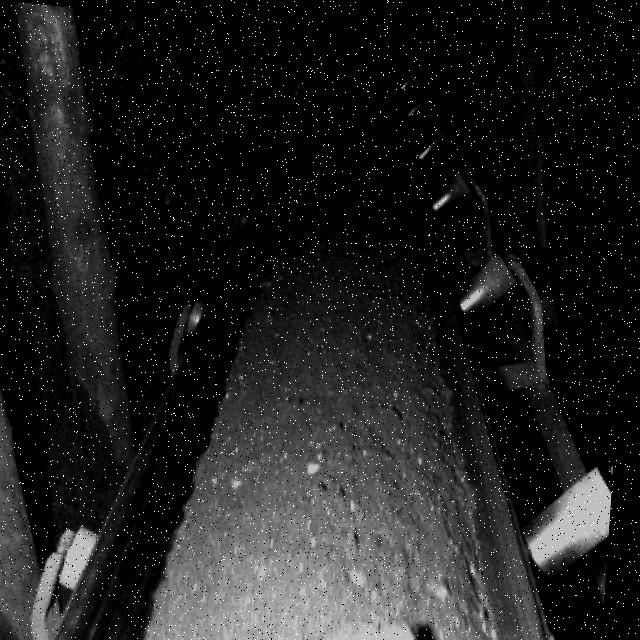large_sized_coal: (307, 608, 432, 640)
